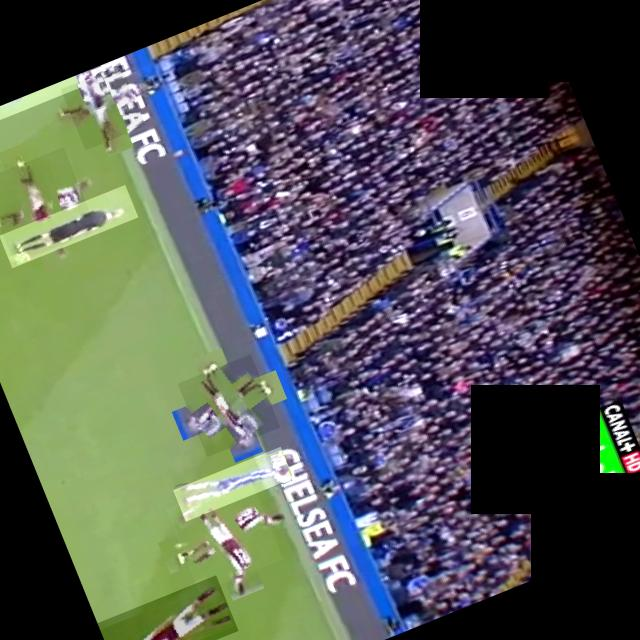referee: (0, 183, 137, 266)
soccer-player: (165, 474, 282, 591), (0, 145, 96, 262), (177, 352, 280, 456), (97, 573, 238, 640), (172, 445, 292, 520), (60, 63, 145, 149), (0, 71, 86, 127)
